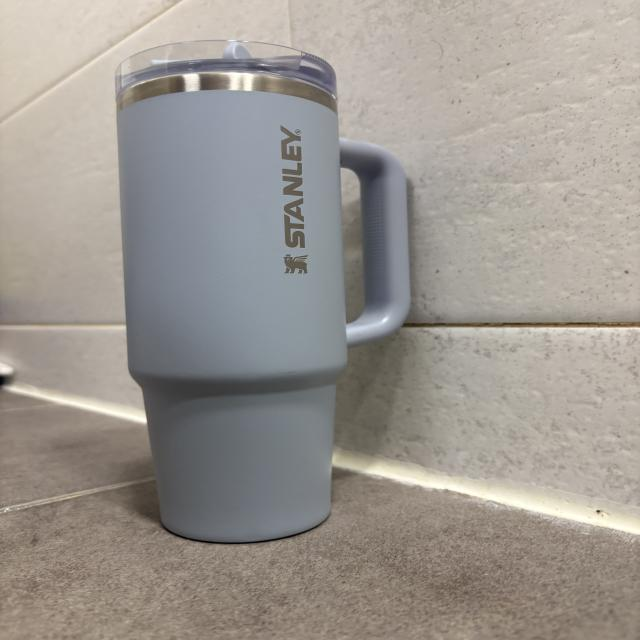waterbottle: (118, 40, 409, 543)
